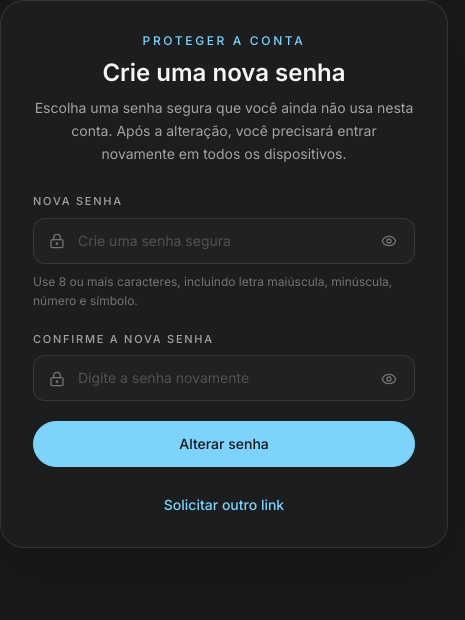
it: formulários de recuperação de senha › valida a política e a confirmação da nova senha
This screenshot has width=465, height=620.
Type "simples" into the password field labelled "Nova senha" at (224, 241), box [33,218,415,264]
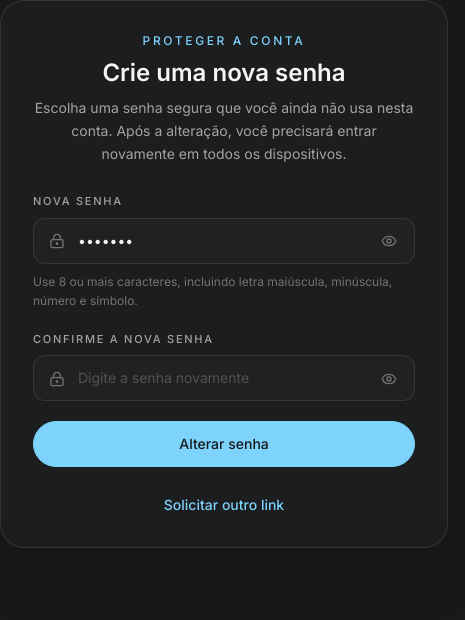
Type "diferente" into the password field labelled "Confirme a nova senha" at (224, 378), box [33,355,415,401]
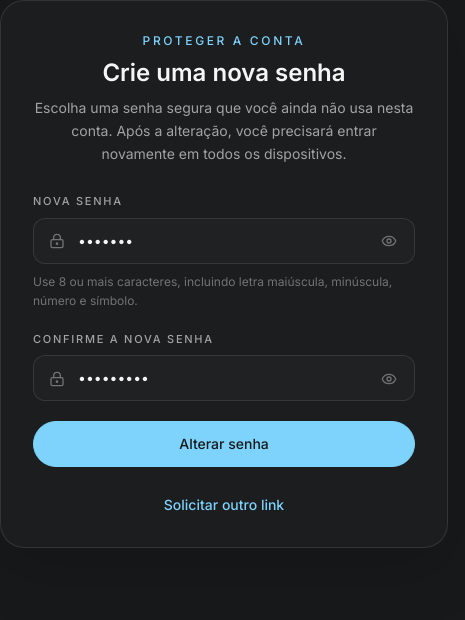
Click the button "Alterar senha" at (224, 444), box [33,421,415,467]
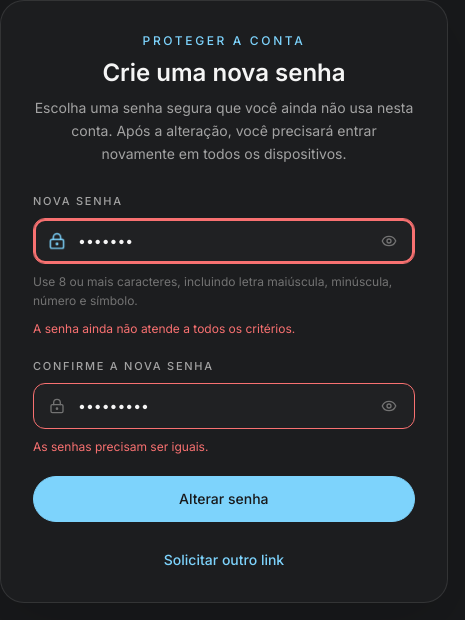
expect the text "A senha ainda não atende a todos os critérios." is shown: met, box [33,321,295,336]
expect the text "As senhas precisam ser iguais." is shown: met, box [33,439,208,454]
